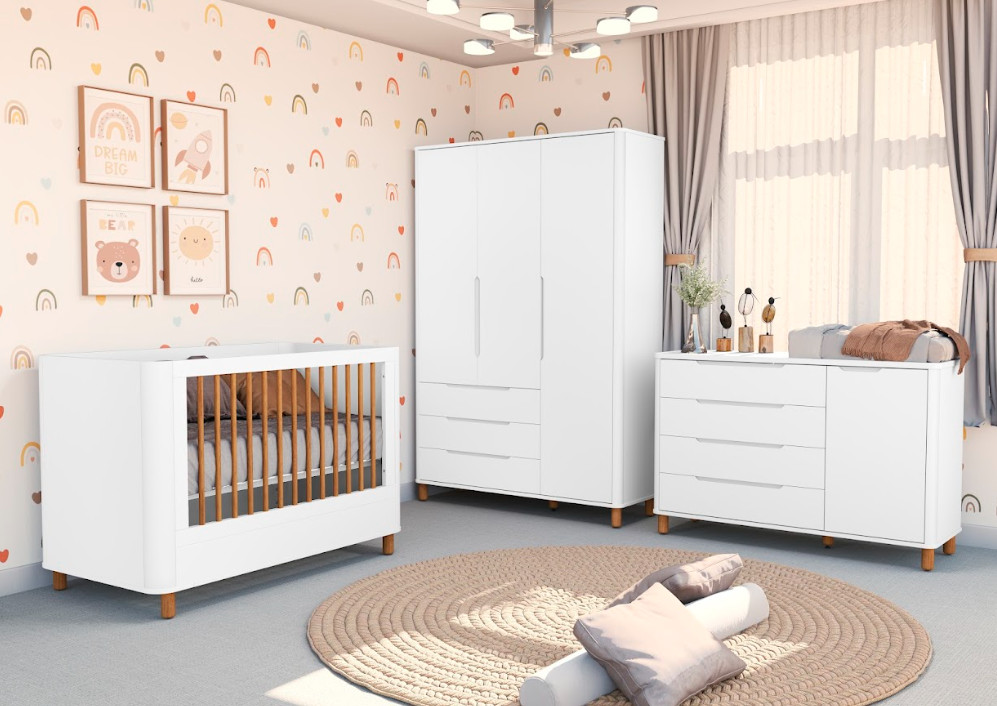crib: (40, 343, 399, 616)
